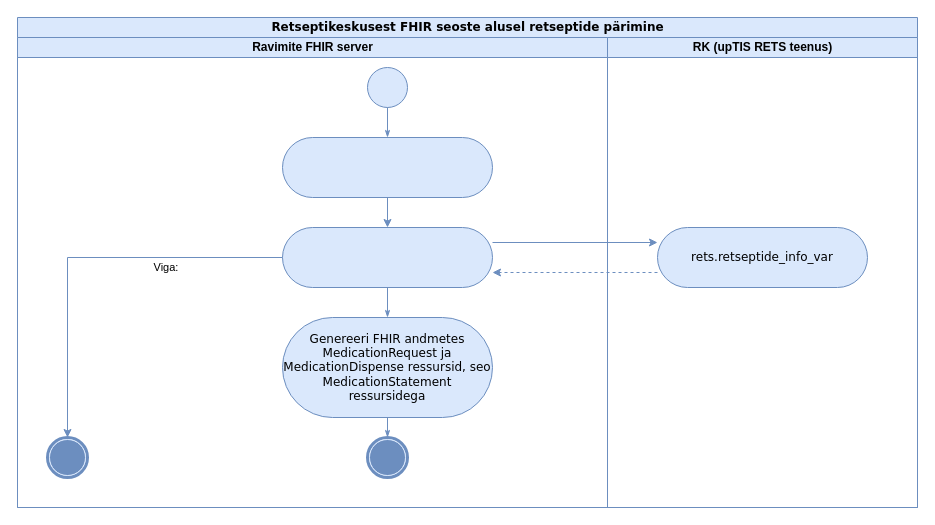
The diagram is 935 pixels wide and 525 high, and some of its shapes have lost their labels. The centre of each missing label's shape, as x and y in pixels:
Leia FHIR andmetest seotud retspetide numbrid: (387,167)
Päri numbrite alusel retseptide andmed: (387,257)
